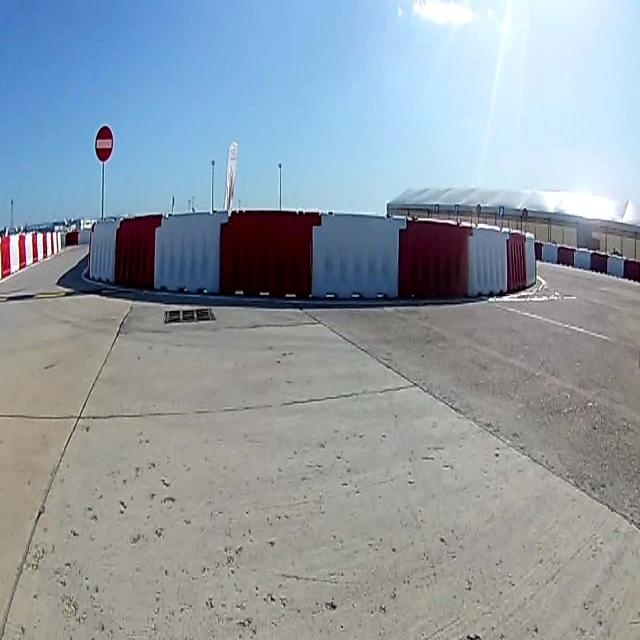girisyok: (95, 125, 114, 162)
